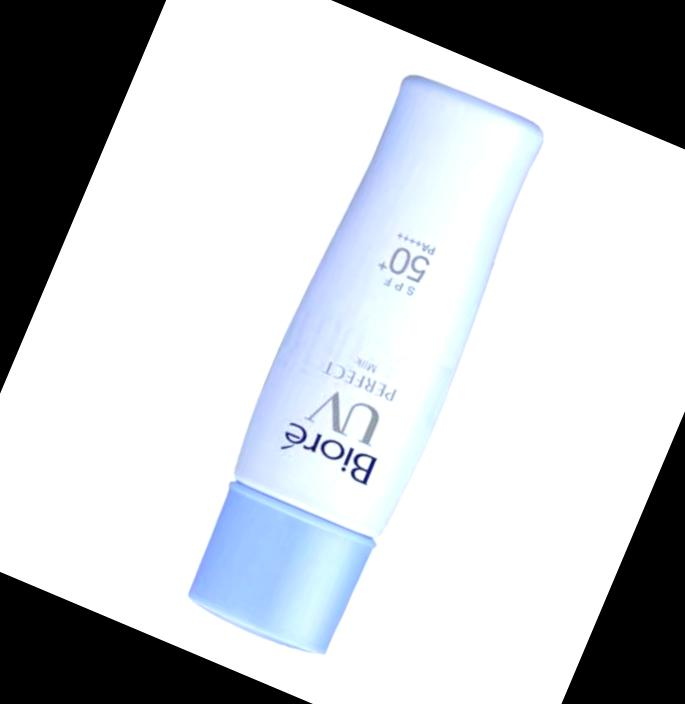cosmetic: (177, 70, 552, 657)
